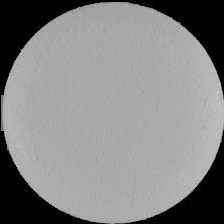33261-076: (0, 0, 224, 224)
